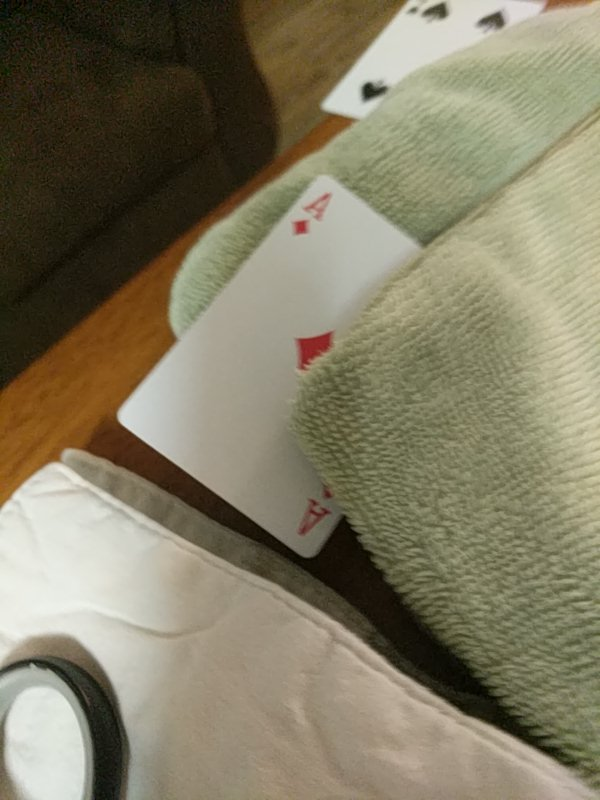Diamonds: (116, 175, 430, 558)
